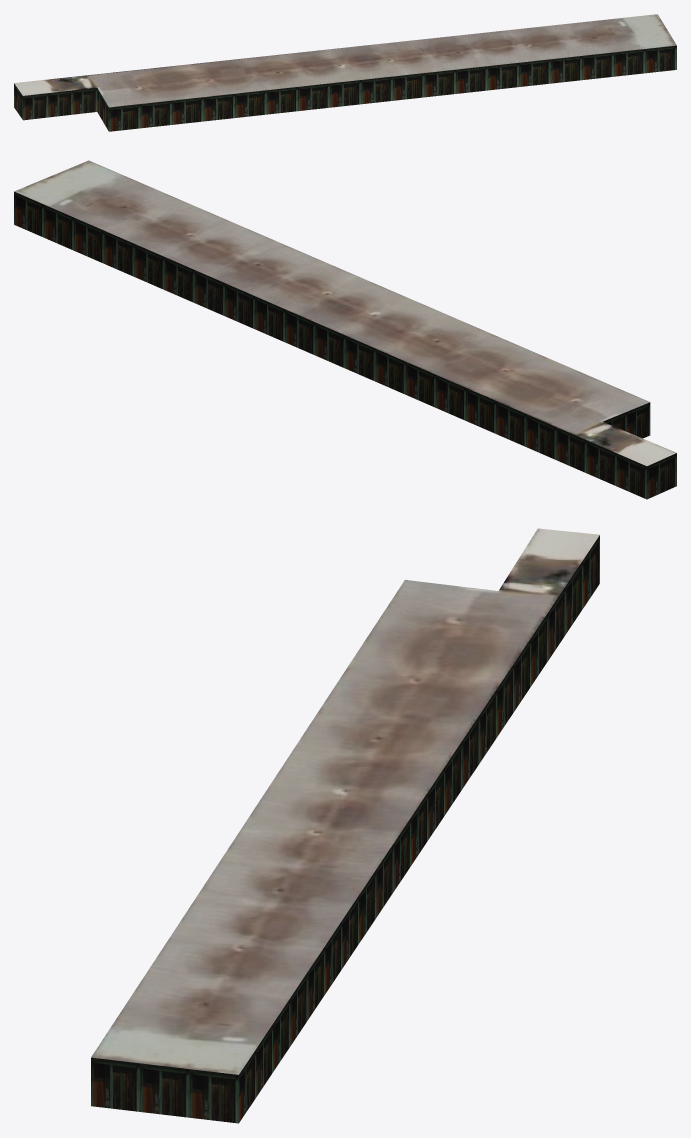
3 renders of one model, top to bottom at view 1: azimuth 30°, elevation 25°; view 2: azimuth 150°, elevation 25°; view 3: azimuth 270°, elevation 25°, orthographic. The views are drawn at different scales.
Visible parts, largest first — view 1: SketchUp (×5); view 2: SketchUp (×4); view 3: SketchUp (×3).
Part boxes in pixels (box(x1,y1,x2,y2)): SketchUp (×5): box(14, 14, 676, 131); SketchUp (×4): box(14, 160, 676, 499); SketchUp (×3): box(91, 528, 599, 1123).
Size of the model in its own units: 118 by 46.31 by 4.88.
Materials: 2 (2 with a texture image).
